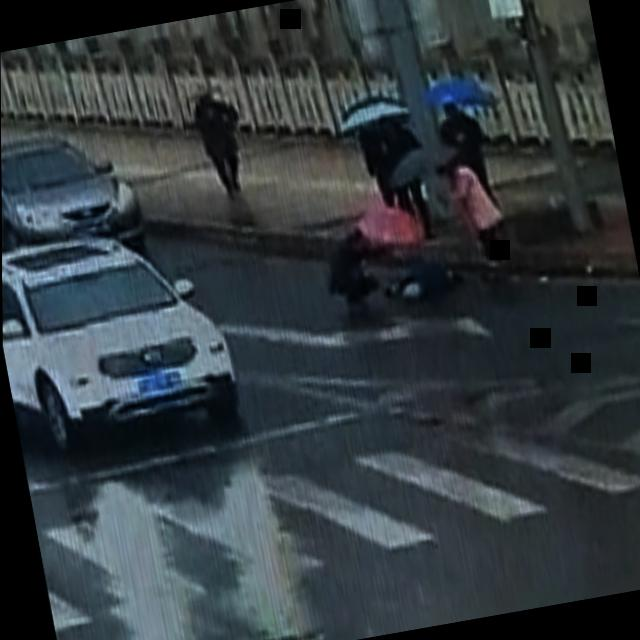Fall-Detected: (373, 240, 470, 314)
